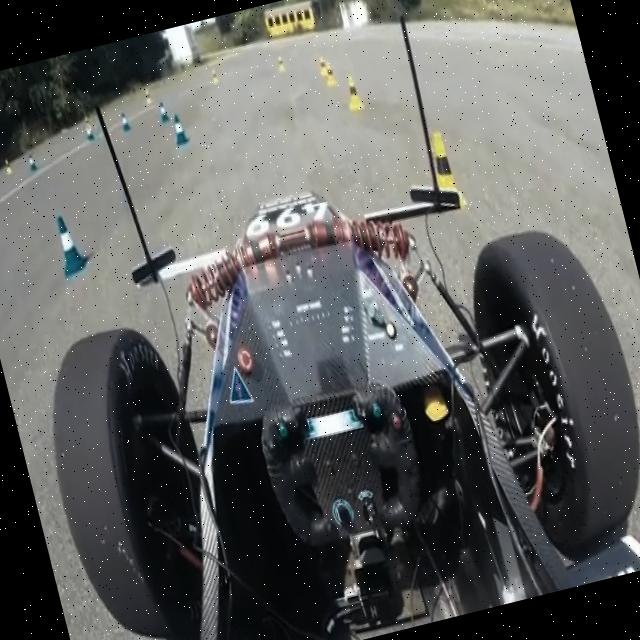blue_cone: (49, 210, 90, 278), (170, 111, 190, 146)
yellow_cone: (414, 124, 470, 213), (341, 72, 367, 113)
